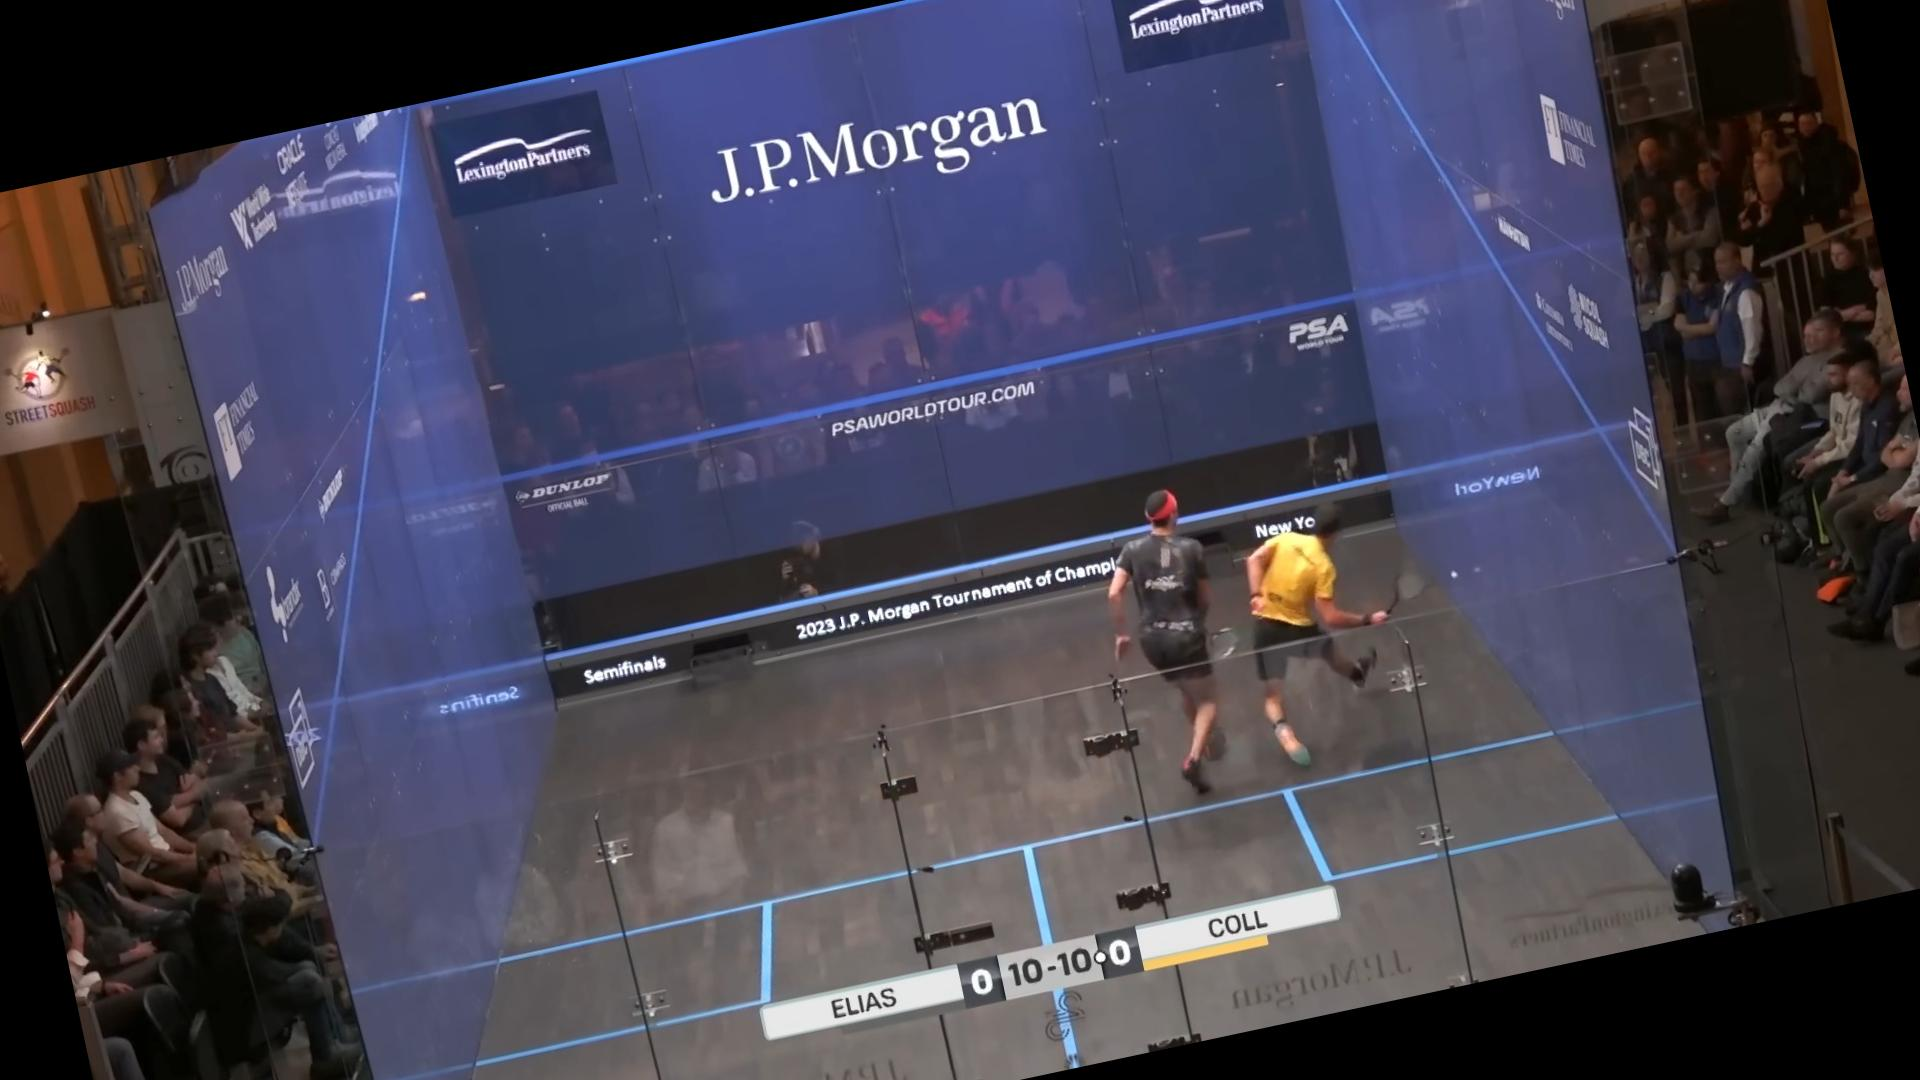Racket: (1356, 538, 1451, 636)
